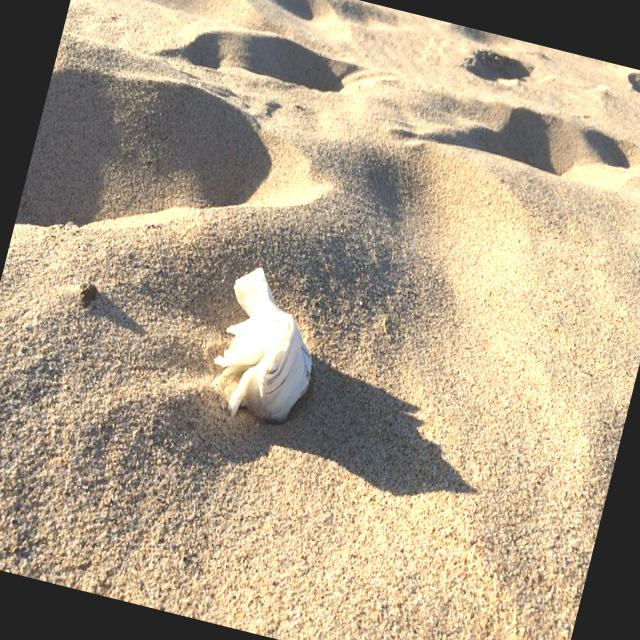Trash: (202, 262, 334, 433)
